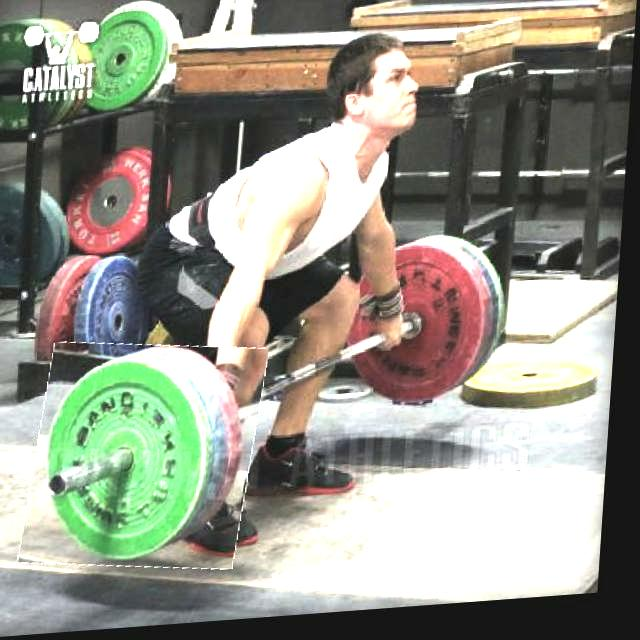barbell: (30, 337, 271, 582)
